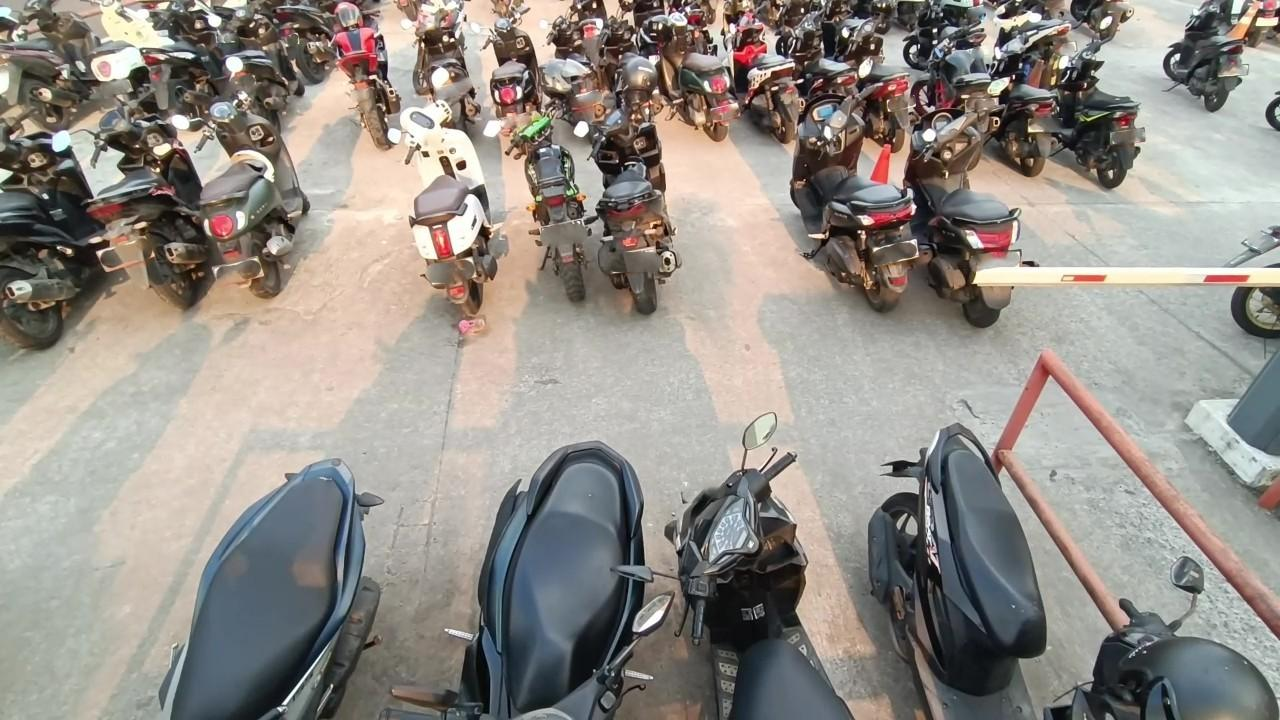motorcycle: (867, 428, 1280, 720), (396, 431, 668, 720), (626, 417, 861, 720), (126, 453, 385, 720), (47, 61, 208, 319), (787, 63, 923, 317), (176, 57, 316, 296), (374, 66, 499, 325), (903, 73, 1029, 325), (482, 59, 605, 310), (0, 72, 106, 353), (579, 61, 693, 308), (1050, 14, 1142, 198), (648, 0, 742, 146), (81, 0, 186, 128), (320, 0, 404, 150), (0, 0, 99, 119), (728, 0, 803, 148), (1163, 0, 1249, 124), (403, 4, 476, 142), (480, 4, 544, 137)
